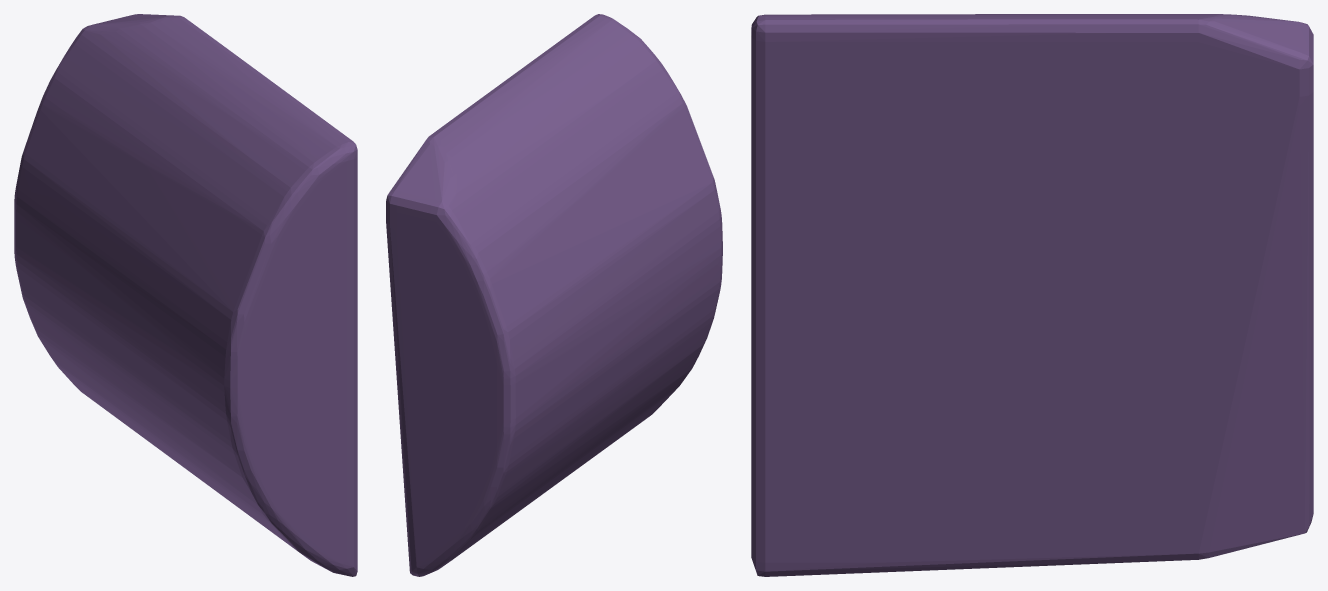
File: right_f_proximal_part_1.obj
3 renders of one model, left to right at view 1: azimuth 30°, elevation 25°; view 2: azimuth 150°, elevation 25°; view 3: azimuth 270°, elevation 25°, orthographic. The views are drawn at different scales.
Size of the model in its own units: 5.29 by 16.62 by 15.29.
